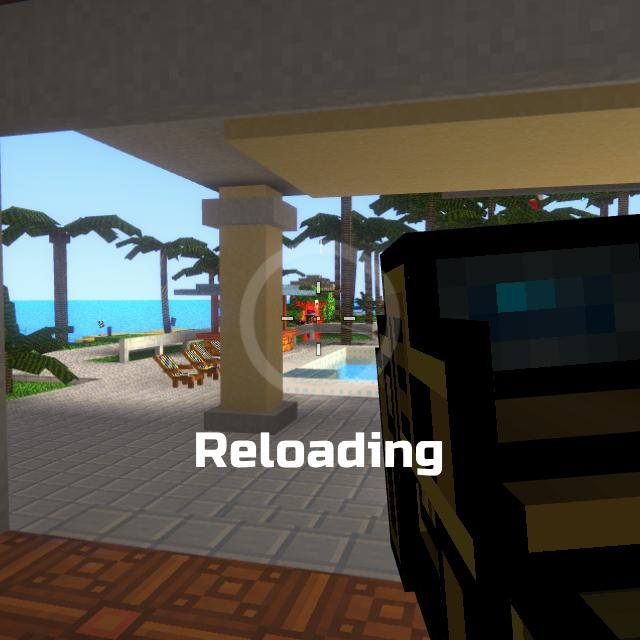Enemy: (302, 309, 322, 339)
